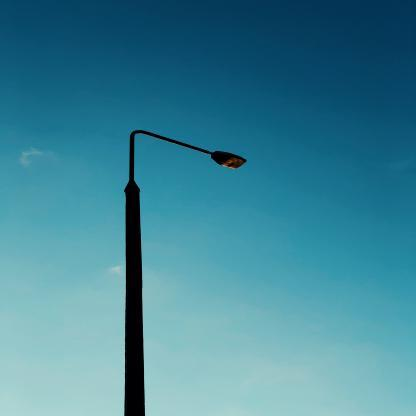light_pole: (124, 130, 247, 415)
